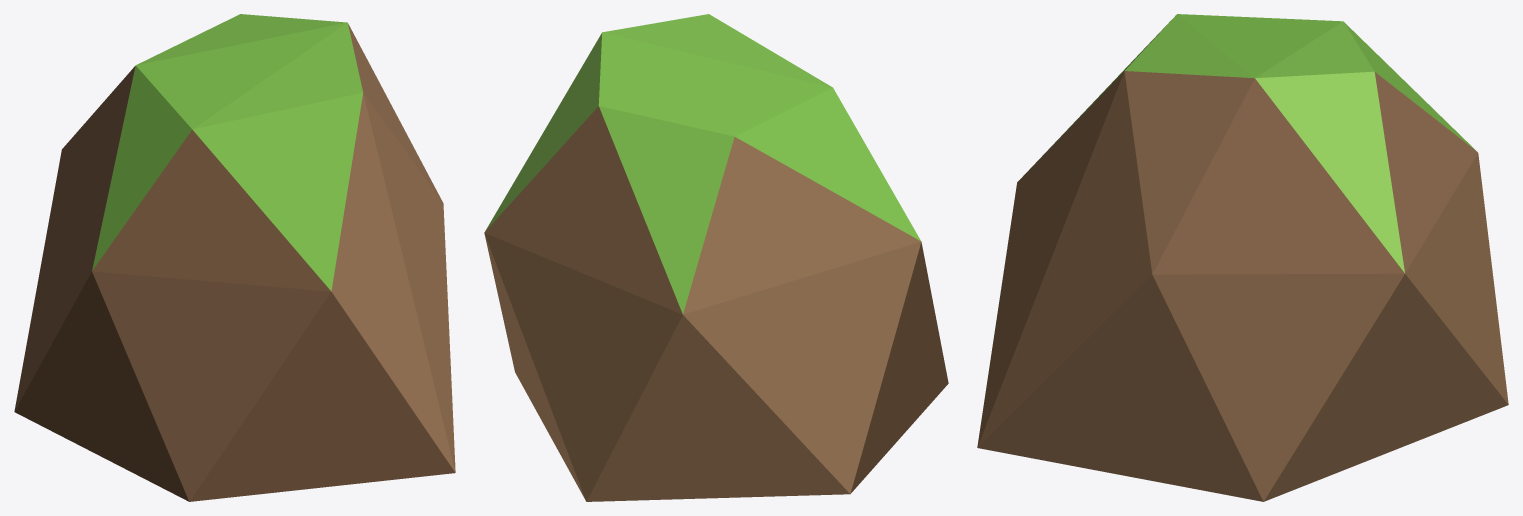
File: rock_smallI.glb
3 renders of one model, left to right at view 1: azimuth 30°, elevation 25°; view 2: azimuth 150°, elevation 25°; view 3: azimuth 270°, elevation 25°, orthographic. The views are drawn at different scales.
Visible parts, largest first — view 1: rock_smallI; view 2: rock_smallI; view 3: rock_smallI.
Boxes of the visible parts, left/top/right/bottom form: rock_smallI: left=14, top=14, right=455, bottom=501; rock_smallI: left=484, top=14, right=948, bottom=501; rock_smallI: left=977, top=14, right=1508, bottom=501.
Size of the model in its own units: 0.3083 by 0.2795 by 0.3538.
1 material, 1 textured.
